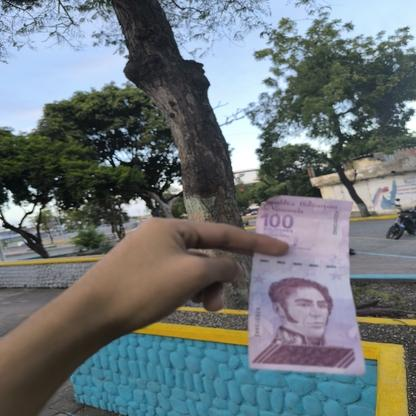one_hundred-front-vef: (248, 194, 366, 374)
